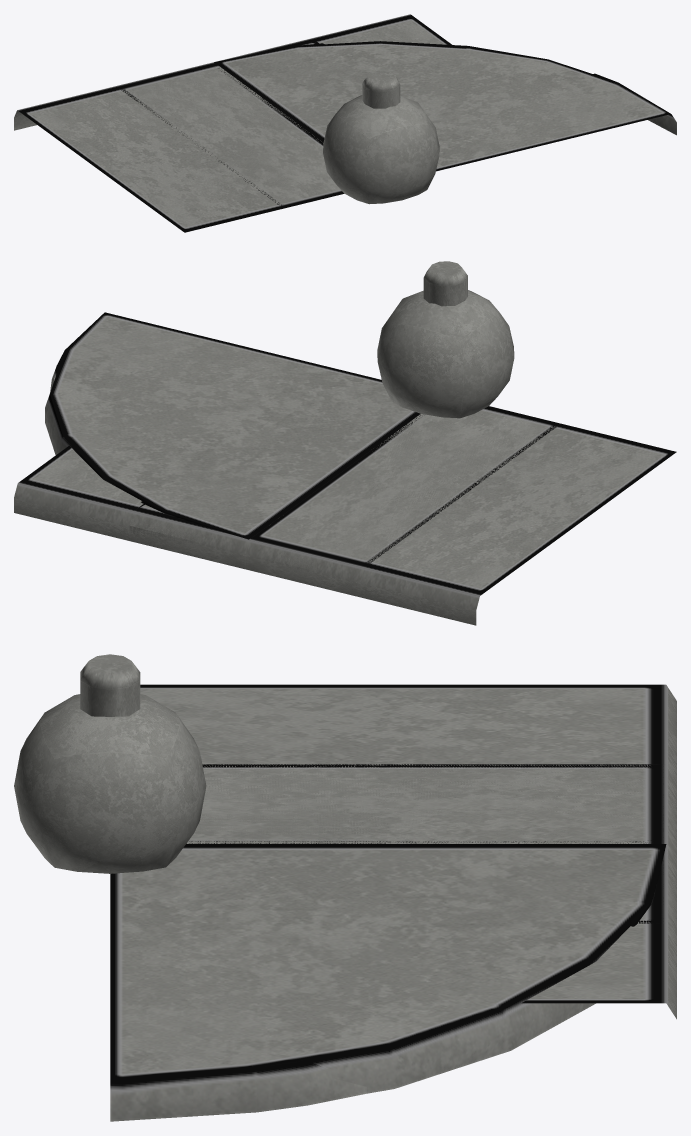
File: sidewalks_mesh.fbx
3 renders of one model, top to bottom at view 1: azimuth 30°, elevation 25°; view 2: azimuth 150°, elevation 25°; view 3: azimuth 270°, elevation 25°, orthographic. The views are drawn at different scales.
Visible parts, largest first — view 1: sidewalkCorner, sidewalk02, sidewalkHalf02, sidewalkPost02, sidewalk01, sidewalkPost; view 2: sidewalkCorner, sidewalk02, sidewalk01, sidewalkHalf02, sidewalkPost02, sidewalkPost, sidewalkHalf01; view 3: sidewalkCorner, sidewalk02, sidewalk01, sidewalkPost02, sidewalkHalf02, sidewalkCornerRamp, sidewalkPost.
Part boxes in pixels (x1,y1,x2,y2): sidewalkCorner: [214, 41, 676, 171]; sidewalk02: [14, 14, 451, 232]; sidewalkHalf02: [116, 63, 342, 207]; sidewalkPost02: [323, 95, 439, 204]; sidewalk01: [116, 38, 340, 208]; sidewalkPost: [362, 70, 400, 108]; sidewalkCorner: [45, 312, 420, 539]; sidewalk02: [14, 414, 676, 625]; sidewalk01: [271, 406, 560, 597]; sidewalkHalf02: [245, 408, 560, 583]; sidewalkPost02: [377, 290, 514, 418]; sidewalkPost: [423, 261, 467, 306]; sidewalkHalf01: [129, 514, 248, 568]; sidewalkCorner: [110, 844, 666, 1121]; sidewalk02: [140, 684, 676, 1019]; sidewalk01: [186, 764, 676, 923]; sidewalkPost02: [14, 694, 206, 873]; sidewalkHalf02: [189, 764, 676, 859]; sidewalkCornerRamp: [110, 902, 651, 1121]; sidewalkPost: [80, 654, 140, 716].
Size of the model in its own units: 501 by 128 by 352.
